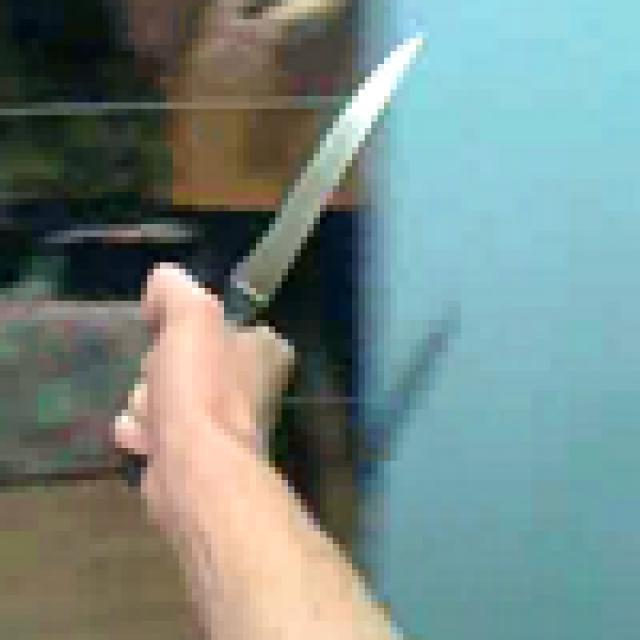knife: (128, 19, 480, 487)
